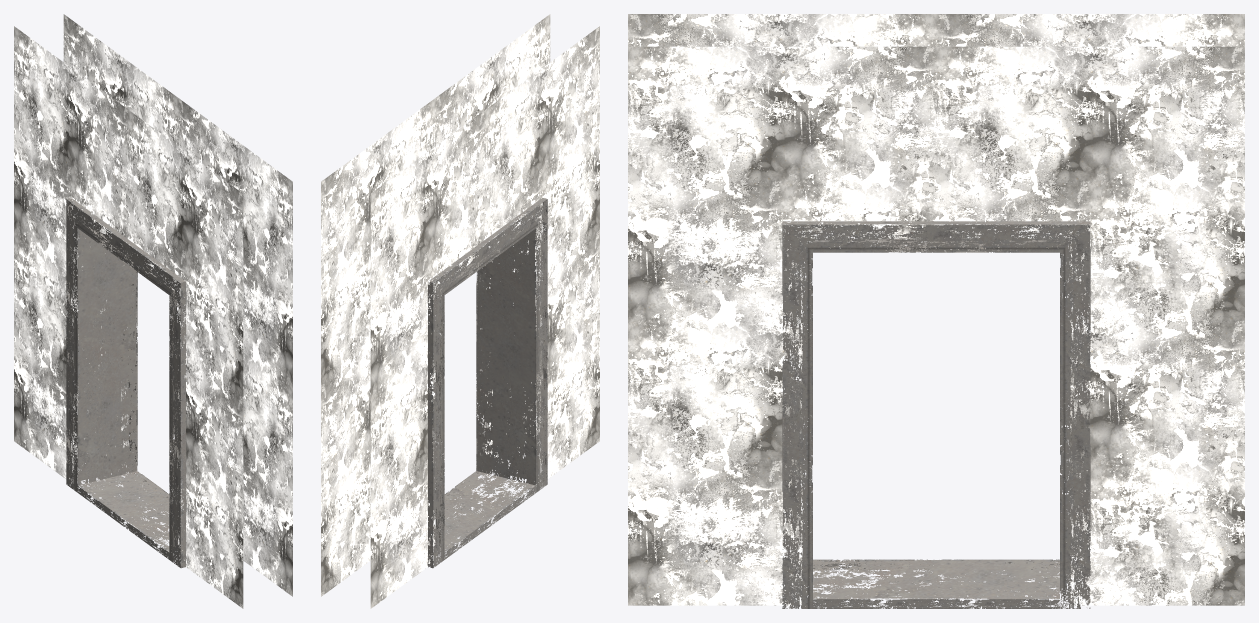
File: SM_wall_A_doorway_4x4_01_01.fbx
3 views of the same model, side by side, from view 1: azimuth 30°, elevation 25°; view 2: azimuth 150°, elevation 25°; view 3: azimuth 270°, elevation 25° (orthographic). The views are drawn at different scales.
Parts seen in each view (by area): view 1: SM_wall_A_doorway_4x4_01_01_LOD0; view 2: SM_wall_A_doorway_4x4_01_01_LOD0; view 3: SM_wall_A_doorway_4x4_01_01_LOD0.
Boxes of the visible parts, x1=… form: SM_wall_A_doorway_4x4_01_01_LOD0: x1=14, y1=14, x2=292, y2=608; SM_wall_A_doorway_4x4_01_01_LOD0: x1=321, y1=14, x2=599, y2=608; SM_wall_A_doorway_4x4_01_01_LOD0: x1=628, y1=14, x2=1244, y2=608.
Bounding box in the file's own units: 60.46 × 400 × 400.
3 materials, 3 textured.
